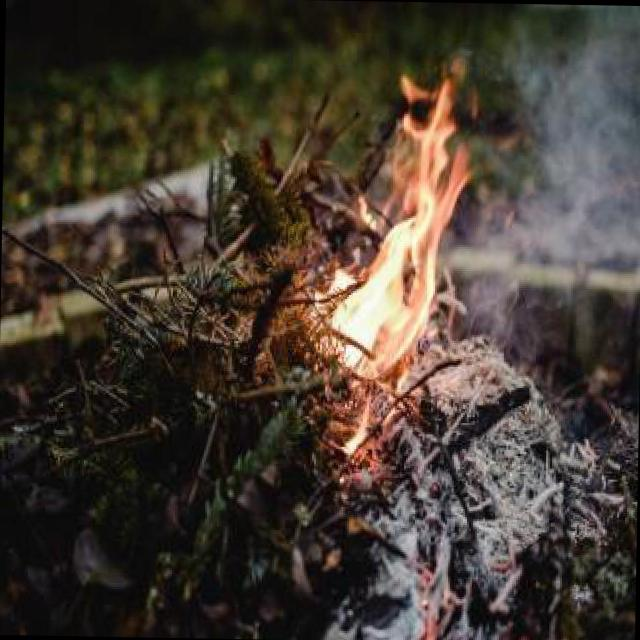Fire: (304, 42, 487, 444)
